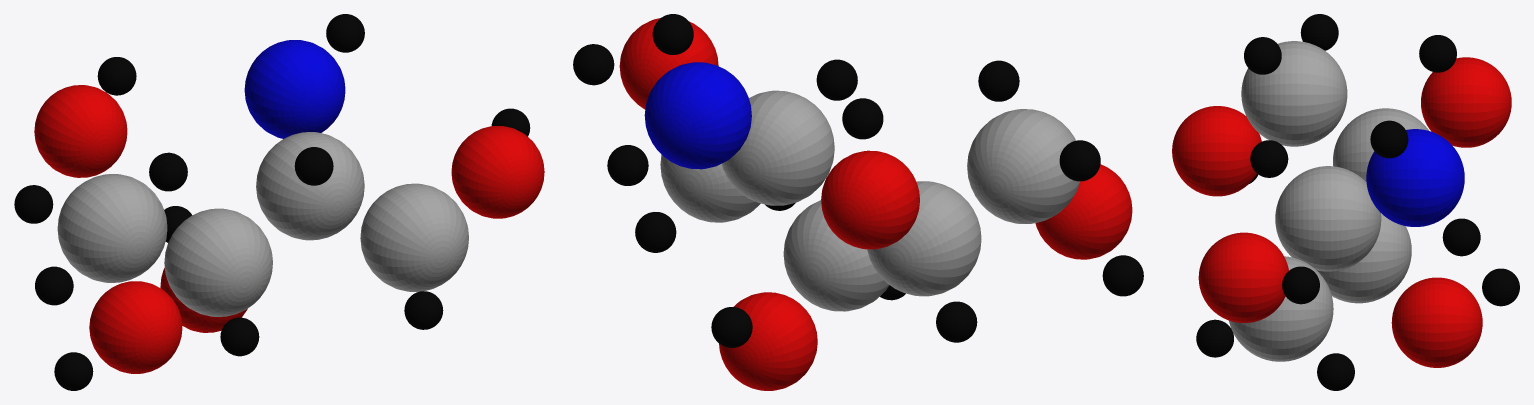
The model's file is Chitin.glb.
3 views of the same model, side by side, from view 1: azimuth 30°, elevation 25°; view 2: azimuth 150°, elevation 25°; view 3: azimuth 270°, elevation 25° (orthographic). The views are drawn at different scales.
Visible parts, largest first — view 1: world; view 2: world; view 3: world.
Boxes of the visible parts, left/top/right/bottom form: world: left=14, top=14, right=544, bottom=390; world: left=573, top=14, right=1143, bottom=390; world: left=1172, top=14, right=1519, bottom=390.
Bounding box in the file's own units: 7.46 × 4.3 × 4.59.
